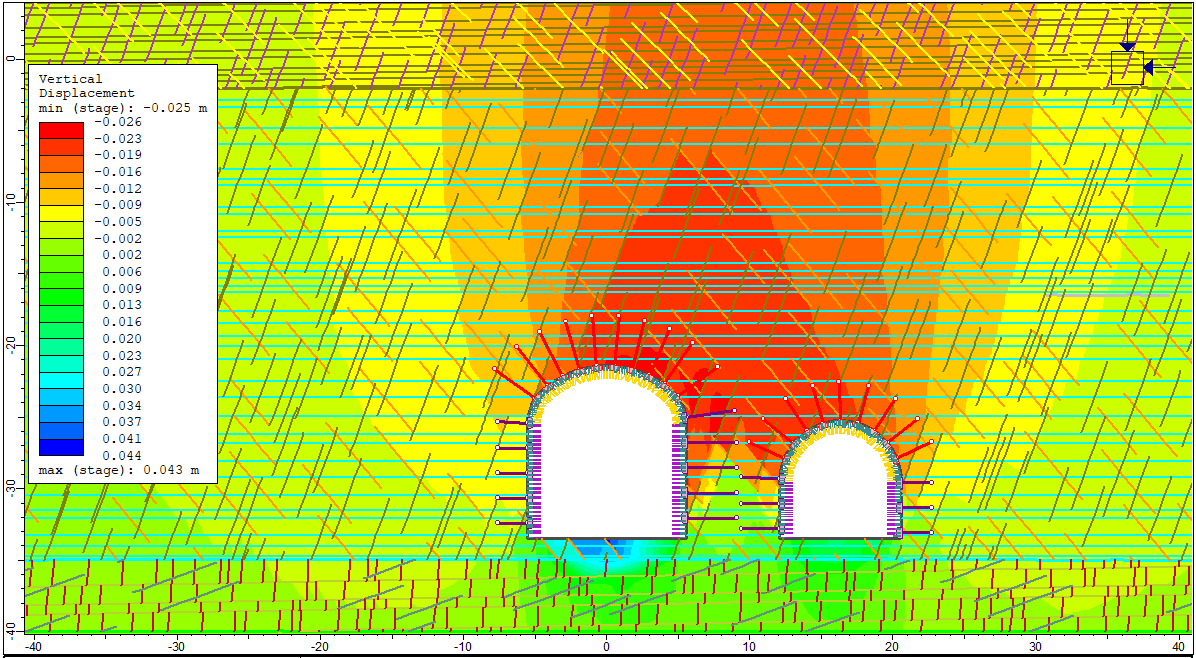crown: (583, 338, 626, 366), (826, 391, 864, 421)
label: (29, 63, 217, 480)
tunnel-opening: (527, 370, 685, 537), (781, 421, 902, 542)
